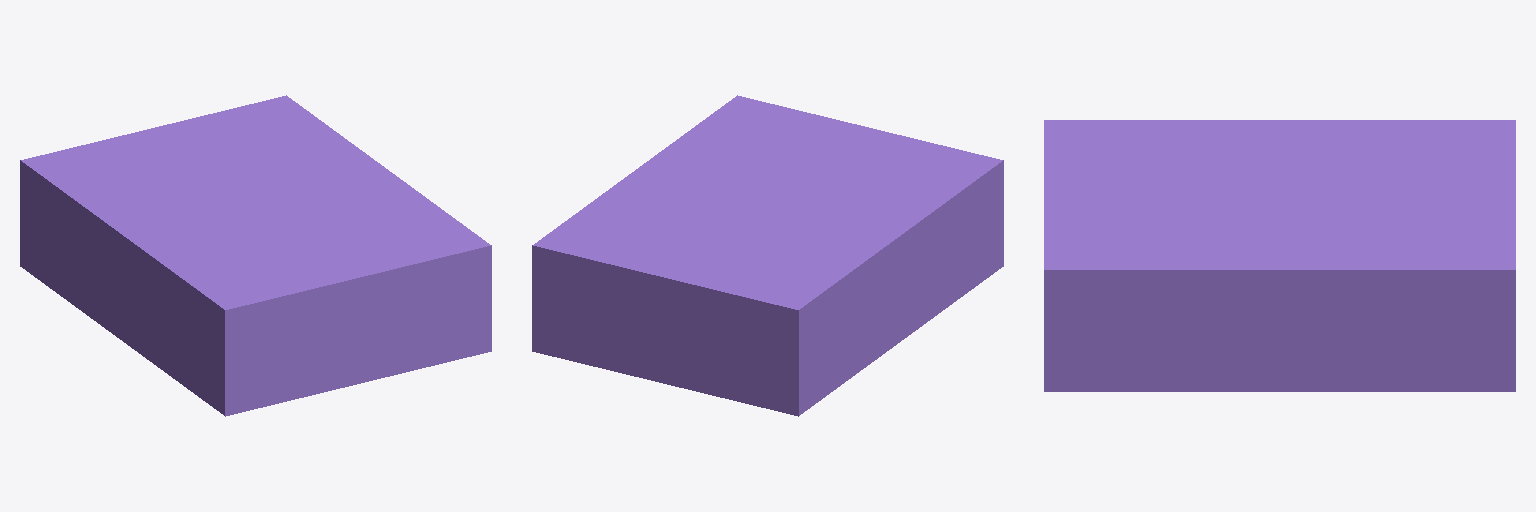
robot.urdf — myfirst:
<?xml version="1.0"?>
 <robot name="myfirst">
   <material name="light_green">
     <color rgba="0 1 0.498 1"/>
   </material>
   <material name="coral">
     <color rgba="1 0.498 0.3137 1"/>
   </material>
   <material name="purple">
     <color rgba="0.68 0.55 0.90 1"/>
   </material>
   <material name="coral_red">
     <color rgba="1 0.251 0.251 1"/>
   </material>
   <material name="white">
     <color rgba="1 1 1 1"/>
   </material>
   <link name="cracker">
     <visual>
       <geometry>
         <box size="0.16 0.21343700408935547 0.061"/>
         <!-- <mesh filename="textured_simple_reoriented.obj" scale="1 1 1"/> -->
       </geometry>
       <material name="purple"/>
       <!-- <origin xyz="0 0 0" rpy="0 -1.5707963 1.5707963"/> -->
     </visual>
     <inertial>
       <mass value="0"/>
       <inertia ixx="1.0" ixy="0.0" ixz="0.0" iyy="1.0" iyz="0.0" izz="1.0"/>
     </inertial>
   </link>

   
 </robot>

--- What the picture shows (computed from the rendered views, not written in the file) ---
3 views of the same robot in one strip: view 1: azimuth 30°, elevation 25°; view 2: azimuth 150°, elevation 25°; view 3: azimuth 270°, elevation 25° (orthographic).
Robot: myfirst — 1 links, 0 joints (none); root link cracker; default pose: all joints at 0.
Visible links, largest first — view 1: cracker; view 2: cracker; view 3: cracker.
Boxes of the visible links, x1,y1,x2,y2 form: cracker: [20, 95, 491, 416]; cracker: [532, 95, 1003, 416]; cracker: [1044, 120, 1515, 391].
Size in the robot's own frame: 0.16 by 0.2134 by 0.061 metres.
Geometry: primitives only (box / cylinder / sphere), no mesh files.
